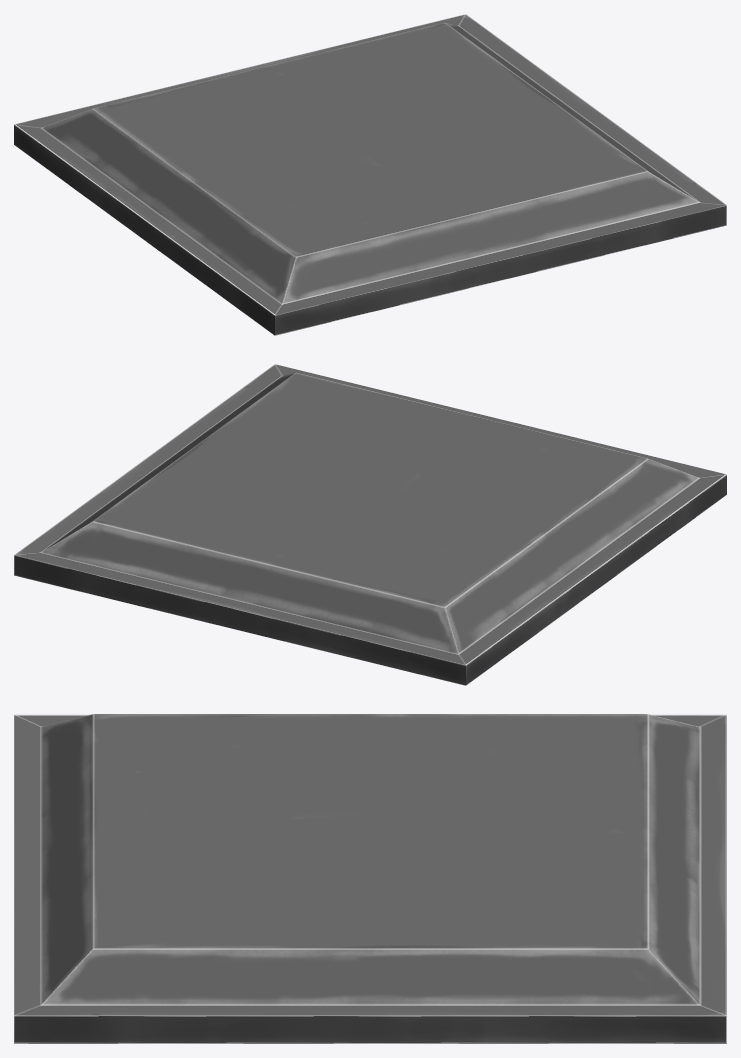
The model's file is pressurePlate.fbx.
The picture shows the model from 3 angles, top to bottom: view 1: azimuth 30°, elevation 25°; view 2: azimuth 150°, elevation 25°; view 3: azimuth 270°, elevation 25°; orthographic projection. The views are drawn at different scales.
Parts seen in each view (by area): view 1: pCube2; view 2: pCube2; view 3: pCube2.
Part boxes in pixels (x1=…): pCube2: x1=14, y1=14, x2=726, y2=335; pCube2: x1=14, y1=364, x2=726, y2=685; pCube2: x1=14, y1=714, x2=726, y2=1043.
Bounding box in the file's own units: 1.08 × 0.1036 × 1.08.
